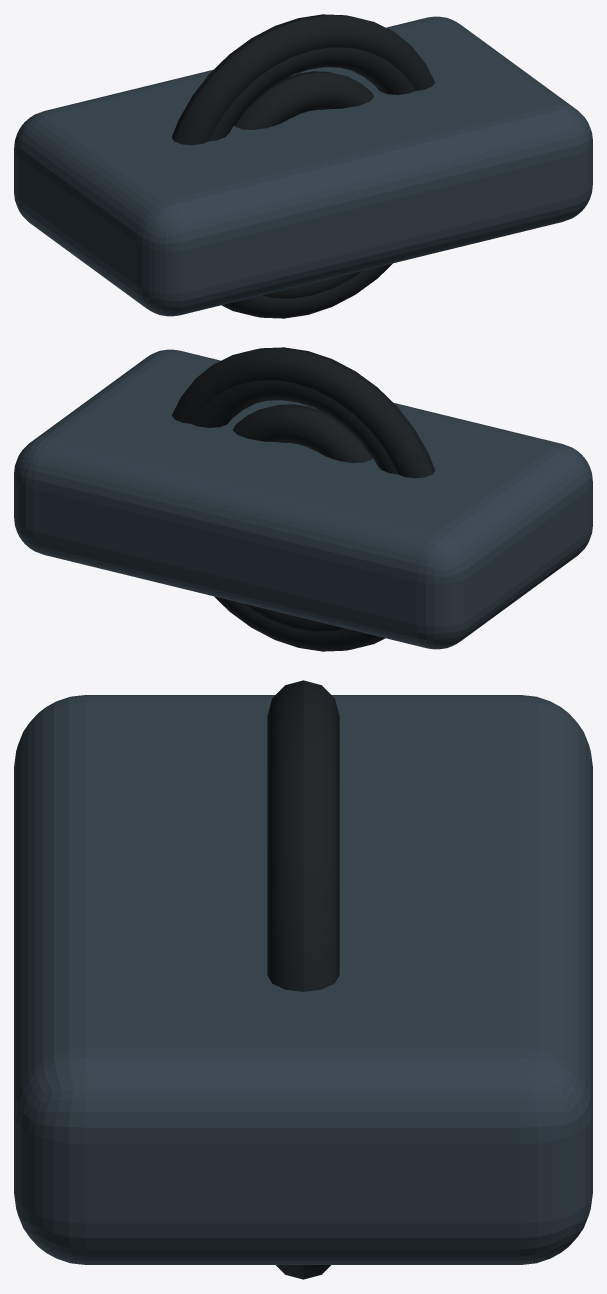
The model's file is body_18.glb.
3 views of the same model, one above another, from view 1: azimuth 30°, elevation 25°; view 2: azimuth 150°, elevation 25°; view 3: azimuth 270°, elevation 25° (orthographic). The views are drawn at different scales.
Visible parts, largest first — view 1: asset_mesh__body_0926__reference_body, asset_mesh__body_0962__service_element, asset_mesh__body_0924__service_element, asset_mesh__body_0945__service_element; view 2: asset_mesh__body_0926__reference_body, asset_mesh__body_0962__service_element, asset_mesh__body_0924__service_element, asset_mesh__body_0945__service_element; view 3: asset_mesh__body_0926__reference_body, asset_mesh__body_0962__service_element.
Part boxes in pixels (x1,y1,x2,y2): asset_mesh__body_0926__reference_body: [14, 16, 592, 316]; asset_mesh__body_0962__service_element: [172, 14, 434, 318]; asset_mesh__body_0924__service_element: [209, 47, 415, 298]; asset_mesh__body_0945__service_element: [234, 71, 373, 129]; asset_mesh__body_0926__reference_body: [14, 349, 592, 649]; asset_mesh__body_0962__service_element: [172, 347, 434, 651]; asset_mesh__body_0924__service_element: [191, 380, 397, 631]; asset_mesh__body_0945__service_element: [233, 404, 372, 462]; asset_mesh__body_0926__reference_body: [14, 695, 592, 1264]; asset_mesh__body_0962__service_element: [267, 680, 339, 1279].
Bounding box in the file's own units: 1.47 × 0.9164 × 0.882.
